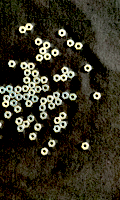nut: (19, 26, 27, 34), (39, 47, 47, 55), (36, 54, 44, 62), (8, 60, 16, 68), (20, 62, 28, 70), (33, 77, 41, 85), (28, 82, 36, 90), (62, 92, 70, 100), (59, 112, 67, 120), (54, 117, 62, 125), (59, 121, 67, 129), (53, 125, 61, 133), (29, 133, 37, 141), (48, 140, 56, 148), (25, 24, 33, 31), (59, 29, 66, 37), (35, 38, 42, 46), (75, 43, 83, 50), (44, 42, 51, 50), (52, 49, 59, 57), (44, 53, 51, 61), (62, 67, 69, 75), (68, 71, 75, 79), (61, 74, 68, 82), (53, 75, 61, 82), (24, 69, 31, 77), (32, 70, 39, 78), (23, 77, 31, 84), (6, 85, 13, 93), (15, 86, 22, 94), (15, 94, 23, 101), (9, 91, 16, 99), (3, 95, 11, 102), (2, 101, 10, 108), (10, 100, 18, 107), (69, 94, 77, 101), (53, 92, 60, 100), (48, 103, 56, 110), (31, 96, 39, 103), (14, 106, 21, 114), (4, 112, 12, 119), (40, 112, 47, 120), (27, 115, 34, 123), (15, 118, 23, 125), (22, 121, 30, 128), (17, 125, 25, 132), (82, 143, 90, 150), (34, 124, 42, 131), (41, 148, 48, 156), (67, 40, 74, 47), (85, 65, 92, 72), (28, 63, 35, 70), (41, 77, 48, 84), (22, 85, 29, 92), (35, 86, 42, 93), (42, 85, 49, 92), (23, 94, 30, 101), (94, 93, 101, 100), (47, 96, 54, 103), (55, 99, 62, 106), (40, 98, 47, 105), (39, 105, 46, 112), (28, 90, 36, 96), (25, 101, 33, 107), (0, 87, 6, 94), (0, 122, 2, 129)
